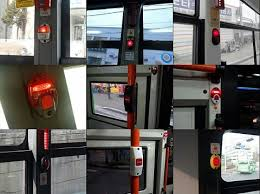bell: (25, 69, 61, 120)
